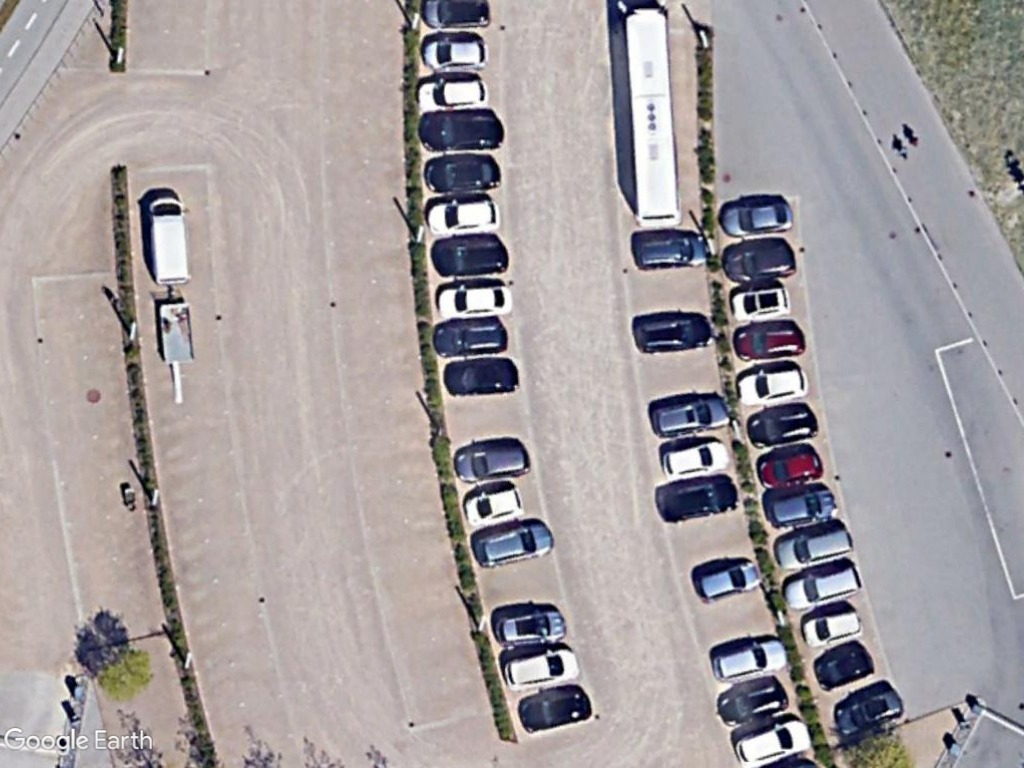bus: (618, 3, 685, 229)
car: (467, 516, 558, 570), (706, 630, 792, 687), (777, 559, 862, 615), (729, 714, 817, 768), (647, 390, 735, 441), (771, 521, 857, 573), (628, 310, 719, 359), (713, 673, 794, 728), (498, 645, 585, 694), (448, 438, 533, 488), (658, 471, 743, 521), (829, 685, 907, 739), (488, 604, 572, 654), (719, 236, 804, 285), (415, 109, 507, 154), (628, 223, 714, 271), (513, 686, 596, 735), (421, 151, 507, 197), (440, 352, 524, 399), (430, 311, 512, 359), (729, 317, 811, 364), (734, 361, 812, 410), (745, 399, 820, 449), (753, 442, 828, 492), (659, 432, 735, 481), (760, 484, 838, 531), (429, 235, 512, 279), (433, 278, 516, 322), (414, 74, 495, 118), (425, 197, 505, 241), (812, 641, 877, 695), (693, 557, 764, 604), (799, 604, 867, 653), (714, 198, 799, 237), (729, 280, 799, 325), (419, 32, 492, 73), (461, 482, 527, 527)
van: (147, 191, 195, 292)
